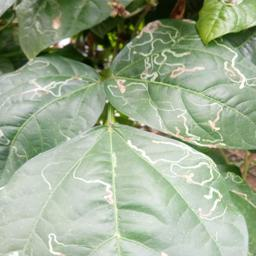liriomyza: (126, 138, 229, 221), (114, 19, 205, 83), (149, 99, 227, 150), (211, 39, 256, 90), (73, 157, 114, 205), (19, 74, 83, 98), (107, 78, 148, 105), (47, 231, 78, 256), (40, 160, 65, 191), (33, 21, 59, 40), (26, 56, 50, 69)
